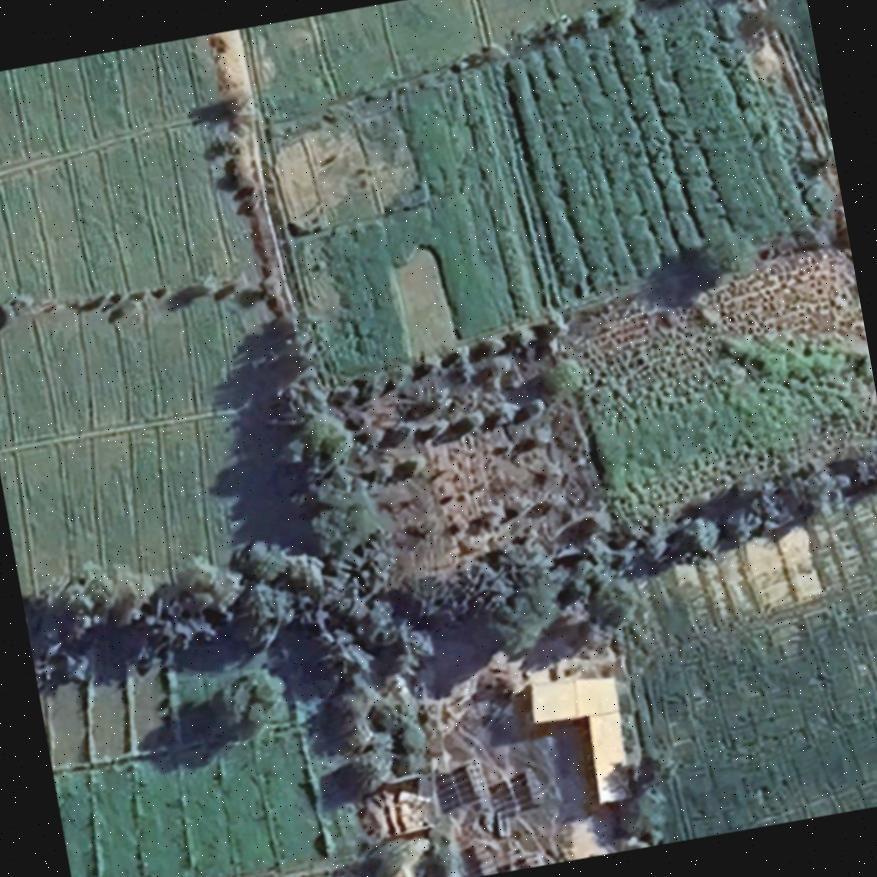Solarpanel: (460, 751, 493, 801), (519, 759, 548, 811)
